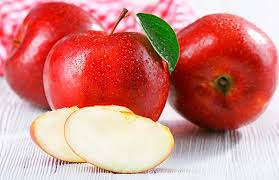apple: (171, 14, 276, 133), (48, 32, 172, 131), (9, 7, 105, 107)
damaged_apple: (65, 107, 174, 176), (32, 104, 97, 165)
